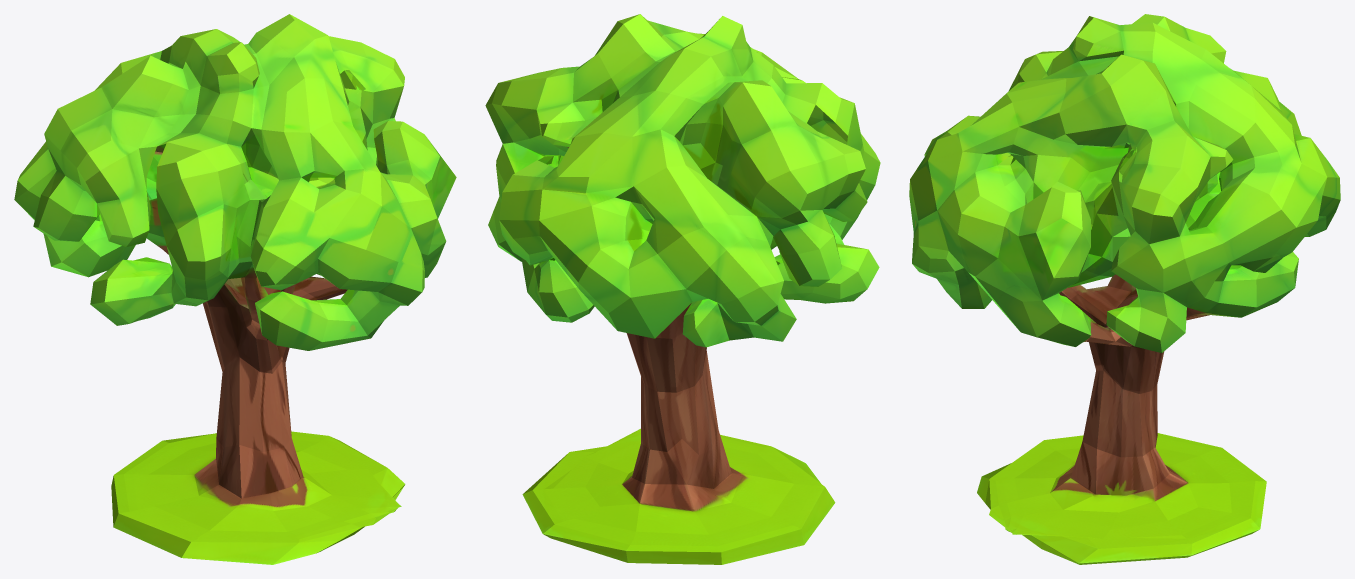
File: Meshy_AI_Stylized_low_poly_par_0519051514_texture.obj
The picture shows the model from 3 angles, left to right: view 1: azimuth 30°, elevation 25°; view 2: azimuth 150°, elevation 25°; view 3: azimuth 270°, elevation 25°; orthographic projection. The views are drawn at different scales.
Visible parts, largest first — view 1: Meshy_AI_Stylized_low_poly_par_0519051514_texture; view 2: Meshy_AI_Stylized_low_poly_par_0519051514_texture; view 3: Meshy_AI_Stylized_low_poly_par_0519051514_texture.
Boxes of the visible parts, x1,y1,x2,y2 form: Meshy_AI_Stylized_low_poly_par_0519051514_texture: (14, 14, 456, 564); Meshy_AI_Stylized_low_poly_par_0519051514_texture: (485, 14, 880, 564); Meshy_AI_Stylized_low_poly_par_0519051514_texture: (909, 14, 1340, 564).
Bounding box in the file's own units: 1.48 × 1.93 × 1.56.
Materials: 1 (1 with a texture image).
